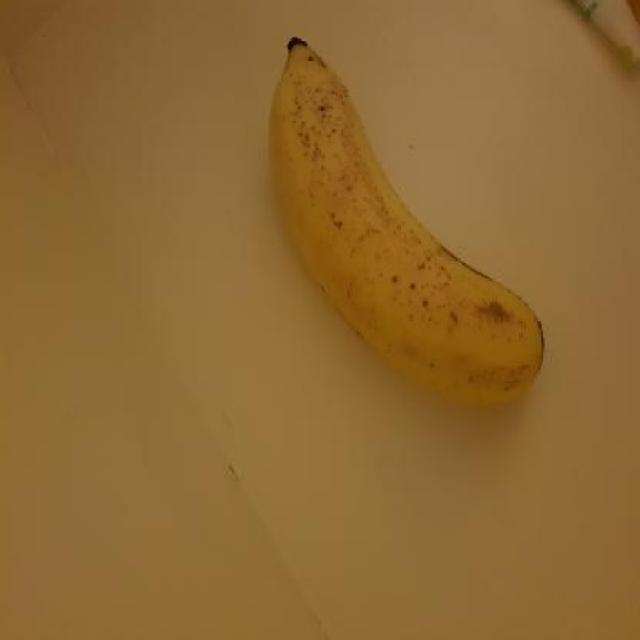Banana: (258, 24, 557, 418)
